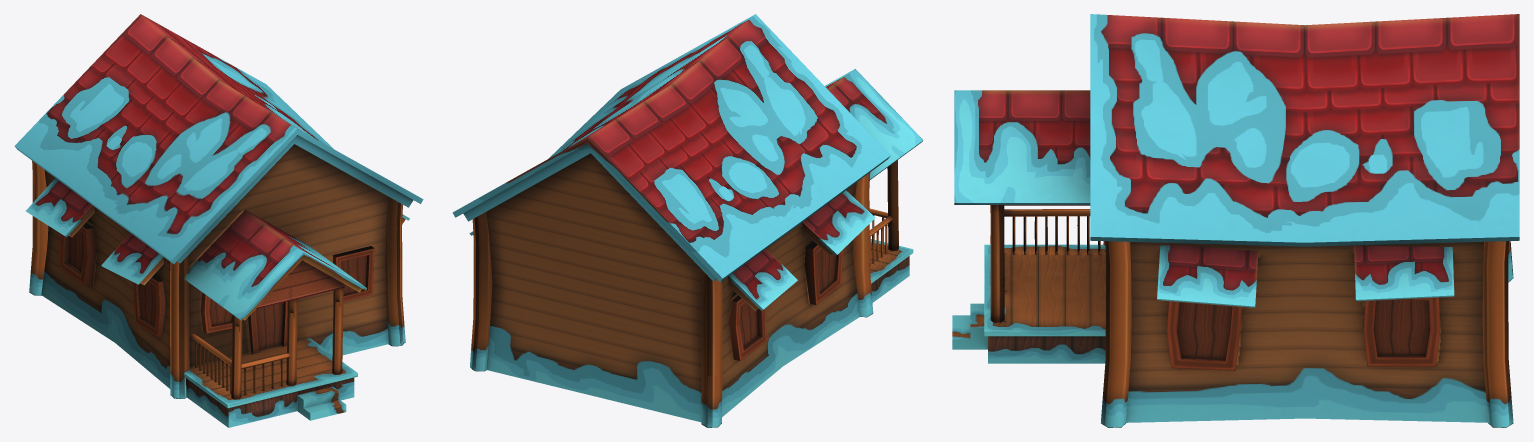
The model's file is House8.FBX.
The picture shows the model from 3 angles, left to right: view 1: azimuth 30°, elevation 25°; view 2: azimuth 150°, elevation 25°; view 3: azimuth 270°, elevation 25°; orthographic projection. The views are drawn at different scales.
Parts seen in each view (by area): view 1: House8; view 2: House8; view 3: House8.
Boxes of the visible parts, box(x1,y1,x2,y2) form: House8: box(14, 14, 423, 427); House8: box(452, 14, 923, 427); House8: box(952, 14, 1519, 427).
Size of the model in its own units: 176 by 149 by 228.
